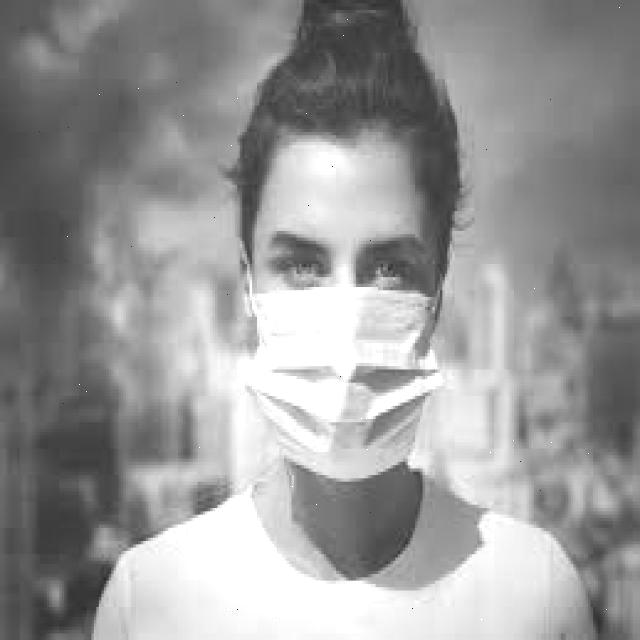fake: (244, 285, 446, 486)
real: (248, 136, 444, 489)
